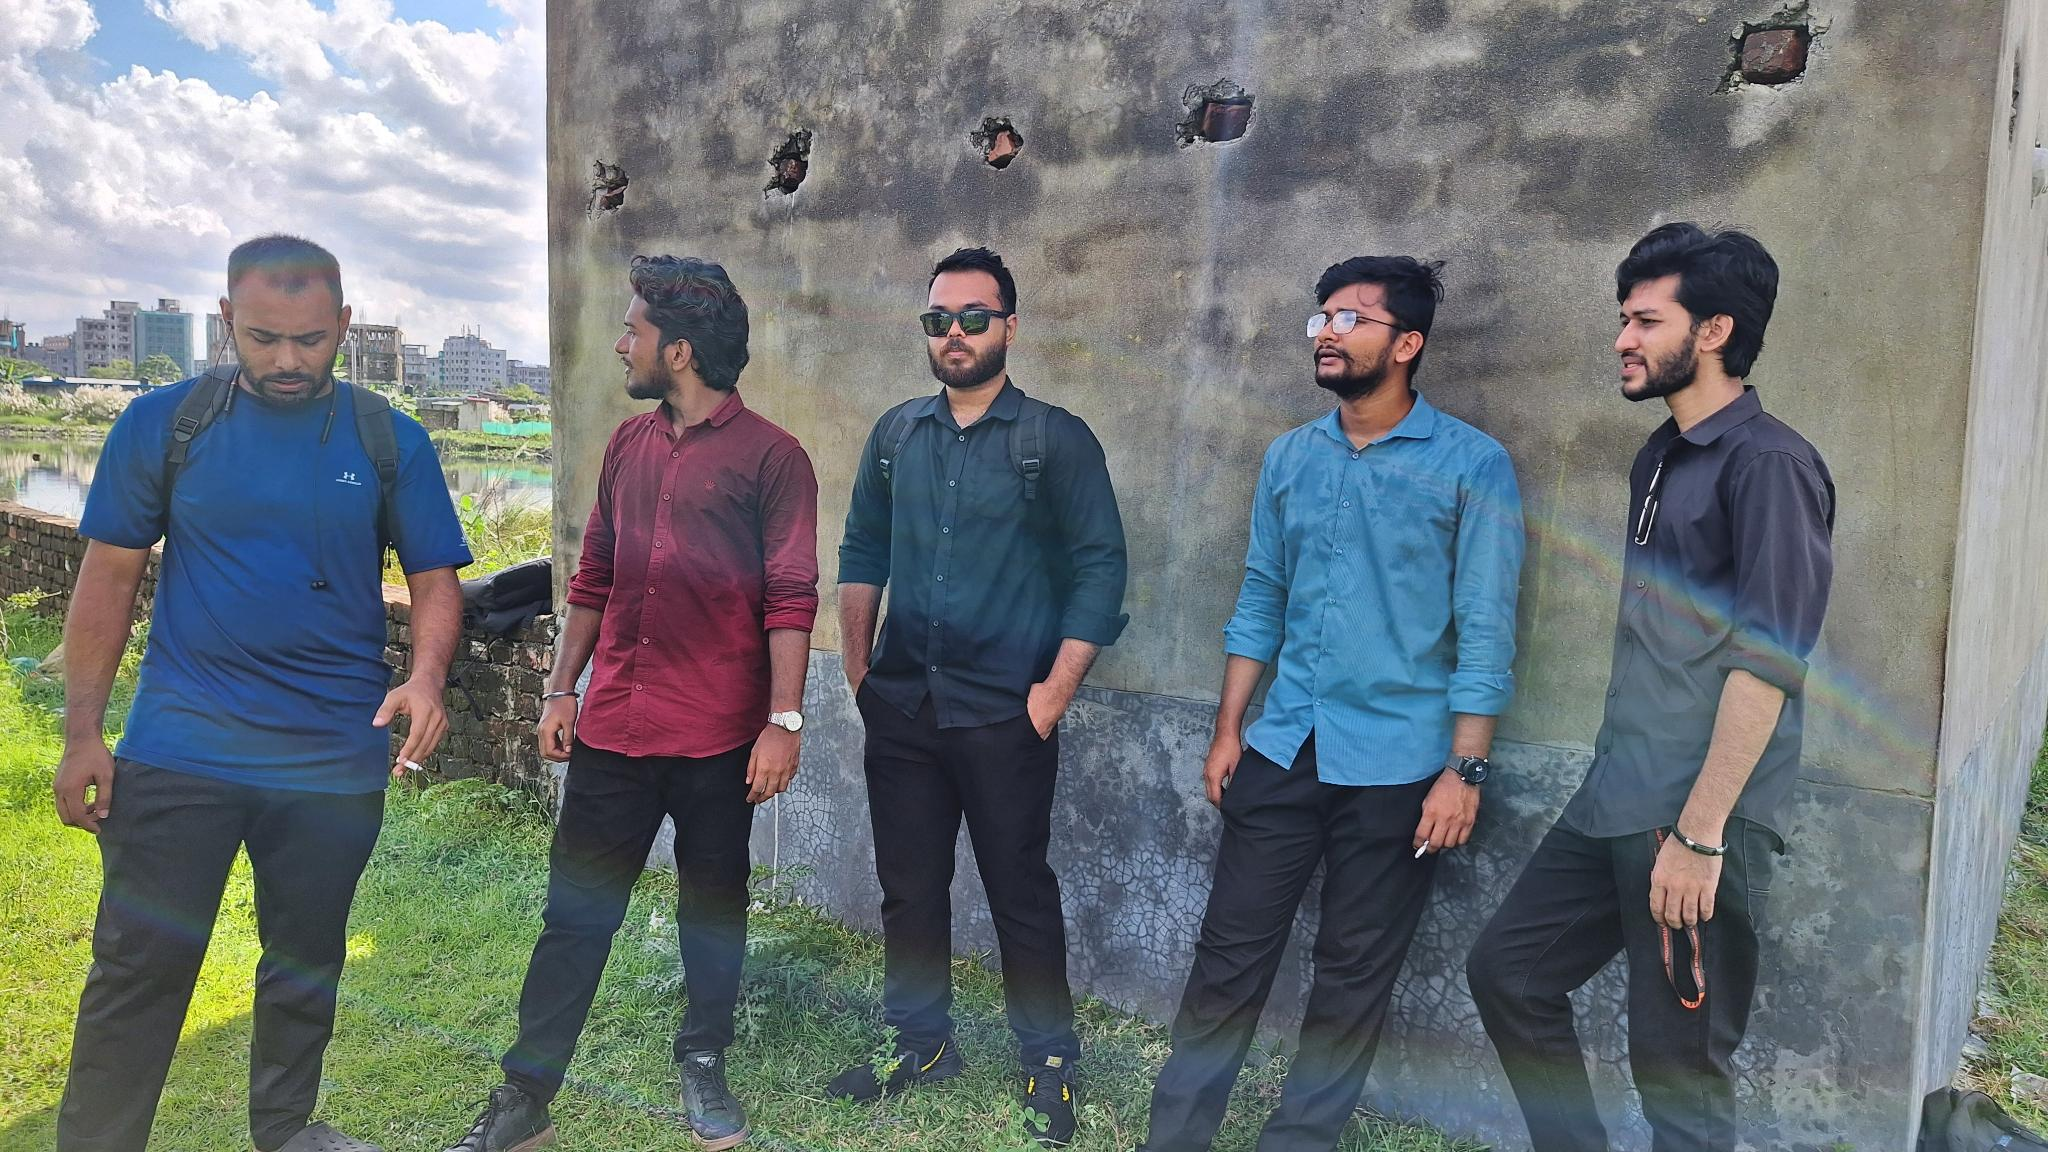cigarette: (1412, 838, 1432, 861), (402, 760, 426, 775)
nonSmoker: (1464, 222, 1836, 1152), (444, 253, 819, 1152), (824, 248, 1132, 1152)
smoker: (51, 235, 468, 1152), (1134, 255, 1528, 1152)
